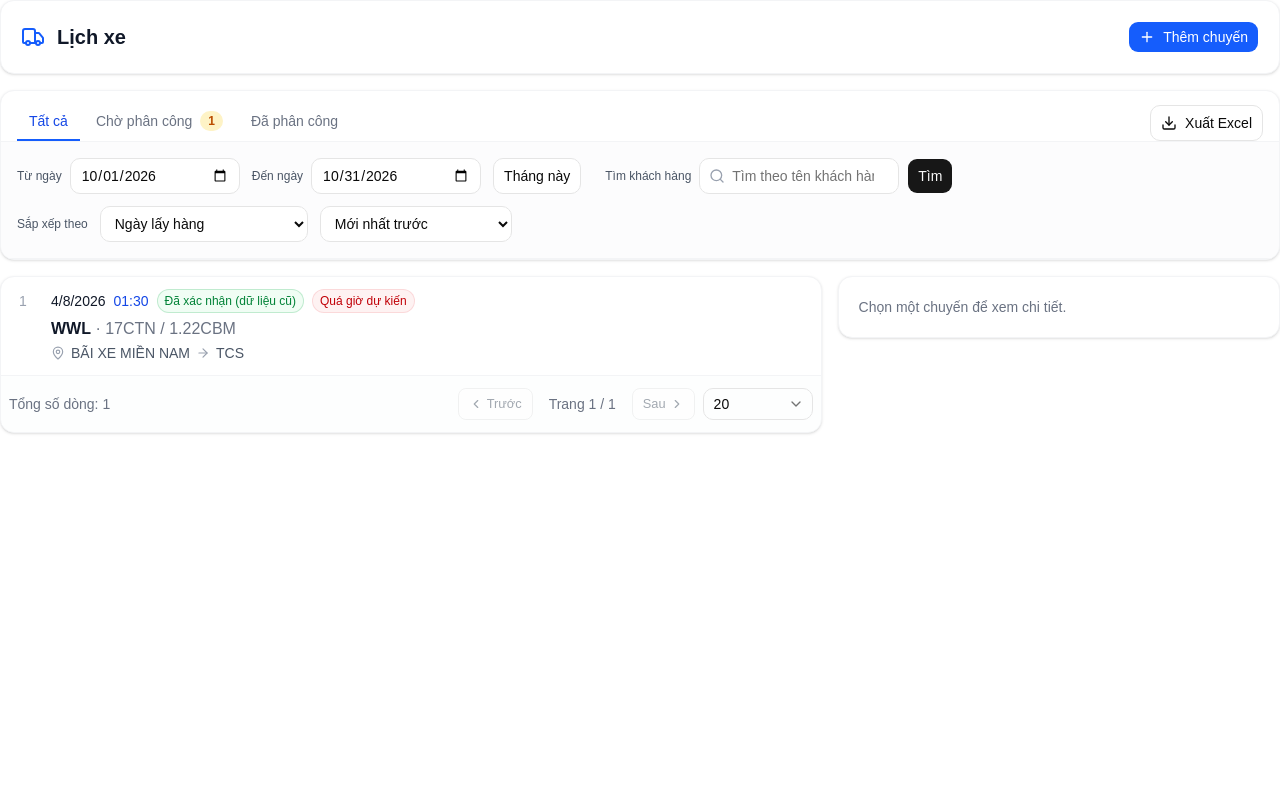
Test: TripSchedulePage › ★ dispatch — the lorries and their drivers (ADR-0004) › a reader: no "Chưa phân công" pill on the row (the tab says it), the detail still does, and no control
The width and height of the screenshot is (1280, 793).
Expected: the text "chưa phân công" is not shown
Click the button "WWL". click: (78, 301)
box: [19, 289, 805, 363]
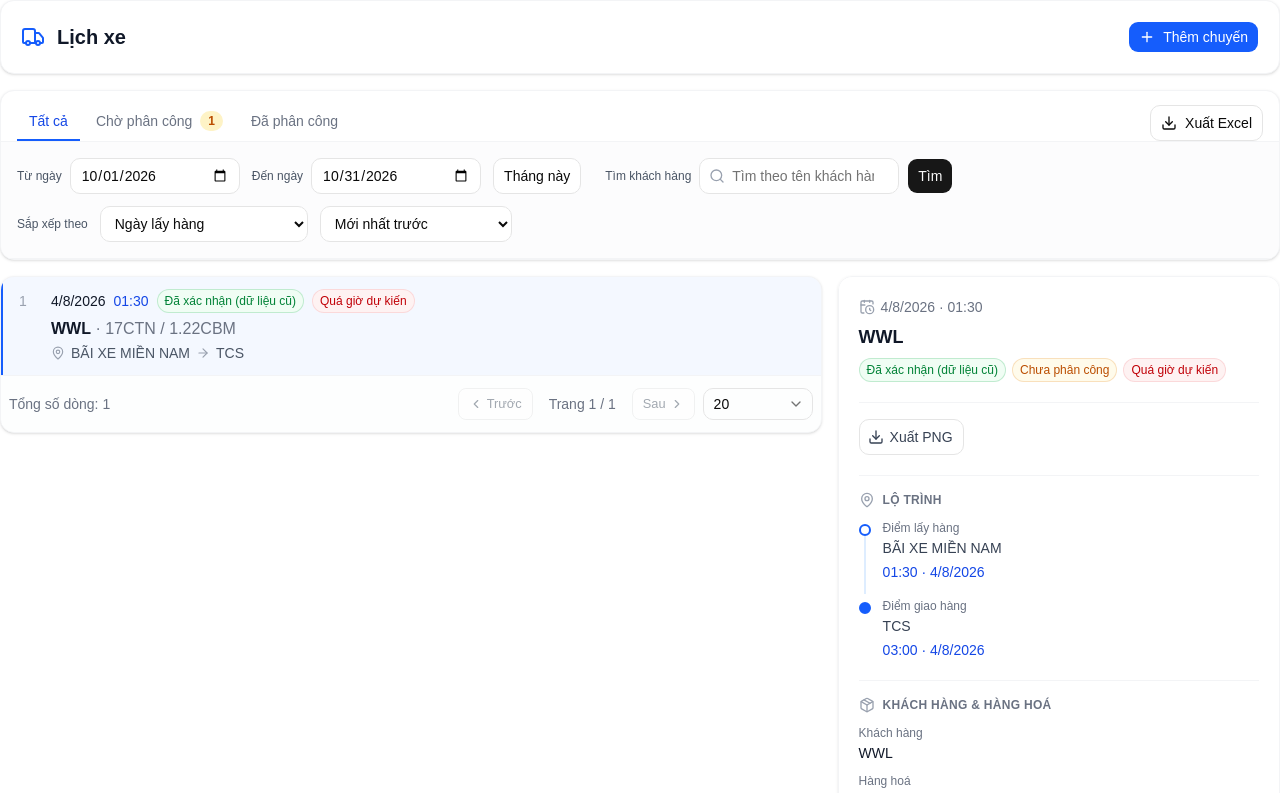
Expected: the text "Chưa phân công" is shown, [1012, 358, 1117, 382]
